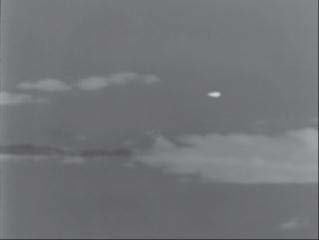Target: (208, 93, 220, 98)
